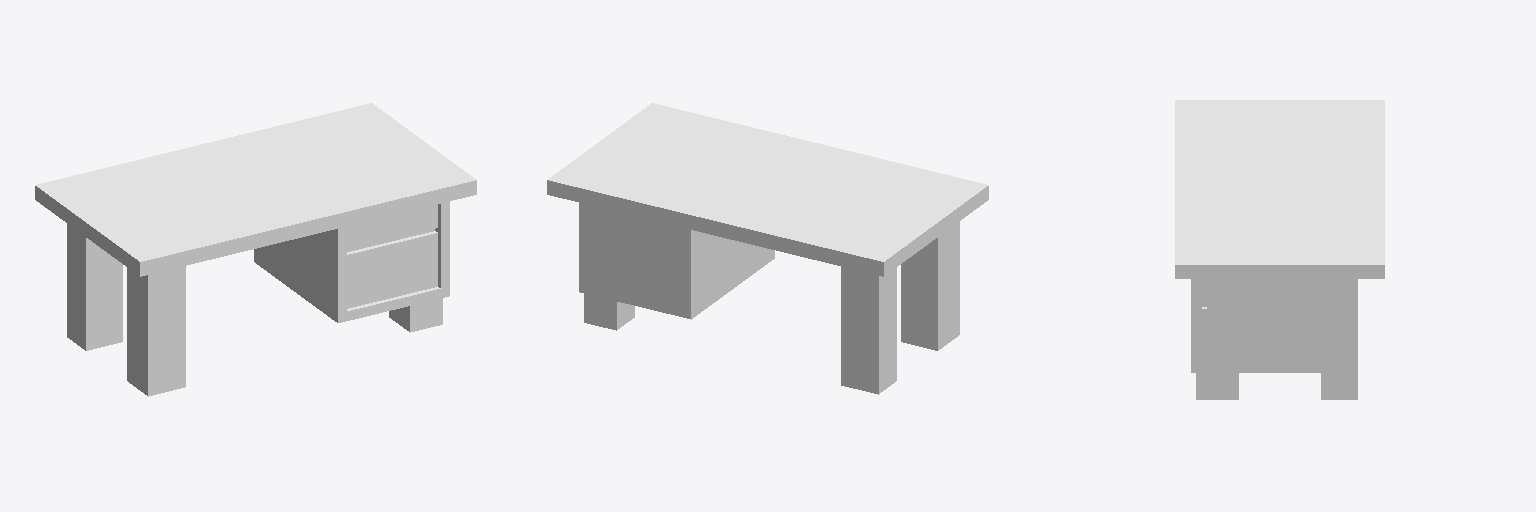
Rendered from house-desk.obj.
The picture shows the model from 3 angles: view 1: azimuth 30°, elevation 25°; view 2: azimuth 150°, elevation 25°; view 3: azimuth 270°, elevation 25°; orthographic projection.
Visible parts, largest first — view 1: object 1; view 2: object 1; view 3: object 1.
Boxes of the visible parts, <box> form: object 1: <box>35,103,476,396</box>; object 1: <box>547,103,988,394</box>; object 1: <box>1175,100,1384,399</box>.
Bounding box in the file's own units: 7.2 × 3 × 3.9.